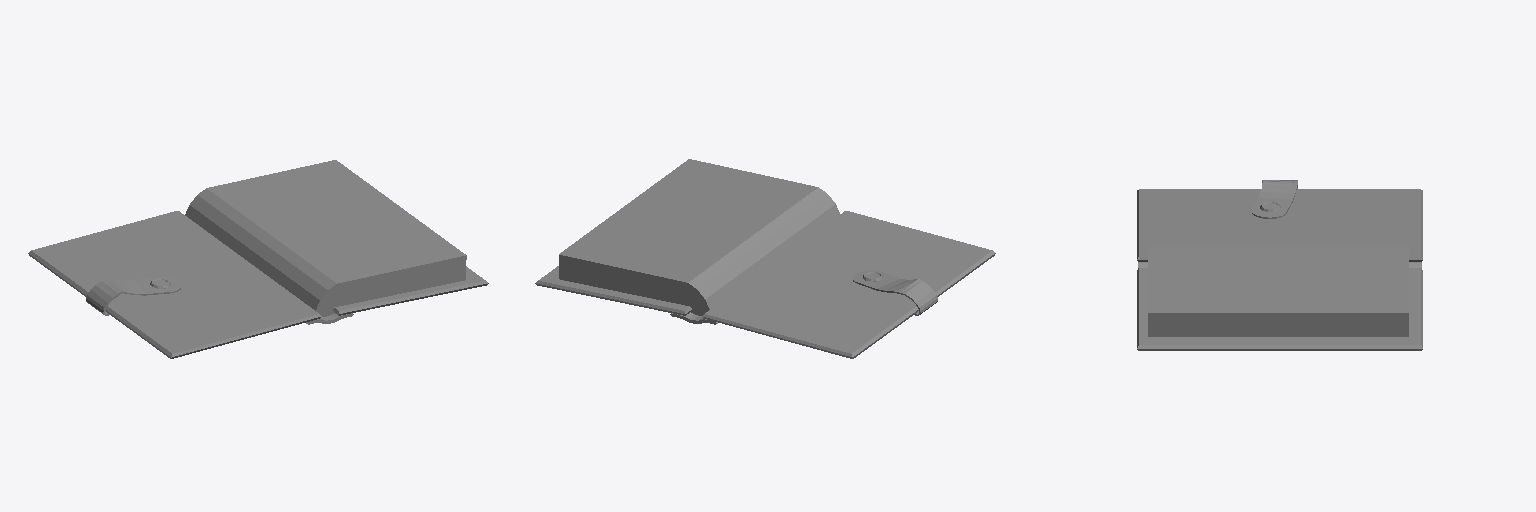
Rendered from book.obj.
3 renders of one model, left to right at view 1: azimuth 30°, elevation 25°; view 2: azimuth 150°, elevation 25°; view 3: azimuth 270°, elevation 25°, orthographic.
Parts seen in each view (by area): view 1: CVR.028_Mesh.045; view 2: CVR.028_Mesh.045; view 3: CVR.028_Mesh.045.
Boxes of the visible parts, x1=… form: CVR.028_Mesh.045: x1=28, y1=160, x2=488, y2=358; CVR.028_Mesh.045: x1=535, y1=159, x2=995, y2=358; CVR.028_Mesh.045: x1=1137, y1=180, x2=1422, y2=350.
Bounding box in the file's own units: 0.4963 × 0.0493 × 0.3804.